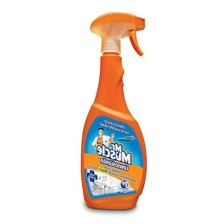cleaning_solution: (78, 9, 150, 212)
